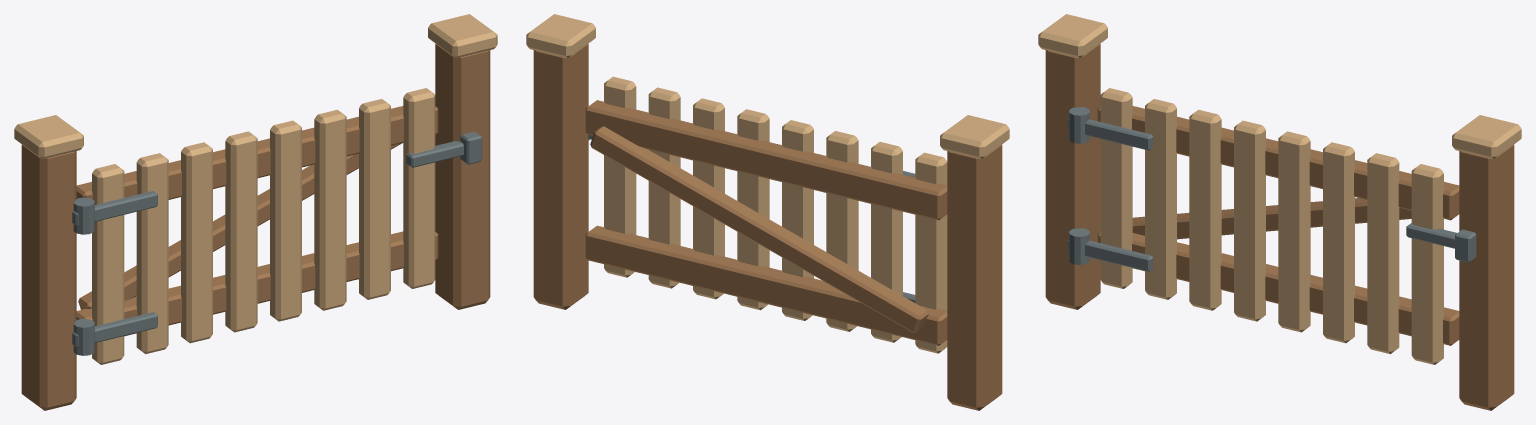
3 views of the same model, side by side, from view 1: azimuth 30°, elevation 25°; view 2: azimuth 150°, elevation 25°; view 3: azimuth 330°, elevation 25° (orthographic).
Visible parts, largest first — view 1: village-fence-gate-01; view 2: village-fence-gate-01; view 3: village-fence-gate-01.
Part boxes in pixels (x1,y1,x2,y2): village-fence-gate-01: [14, 14, 497, 410]; village-fence-gate-01: [526, 14, 1009, 410]; village-fence-gate-01: [1038, 14, 1521, 410].
Bounding box in the file's own units: 2.22 × 1.26 × 0.285.
